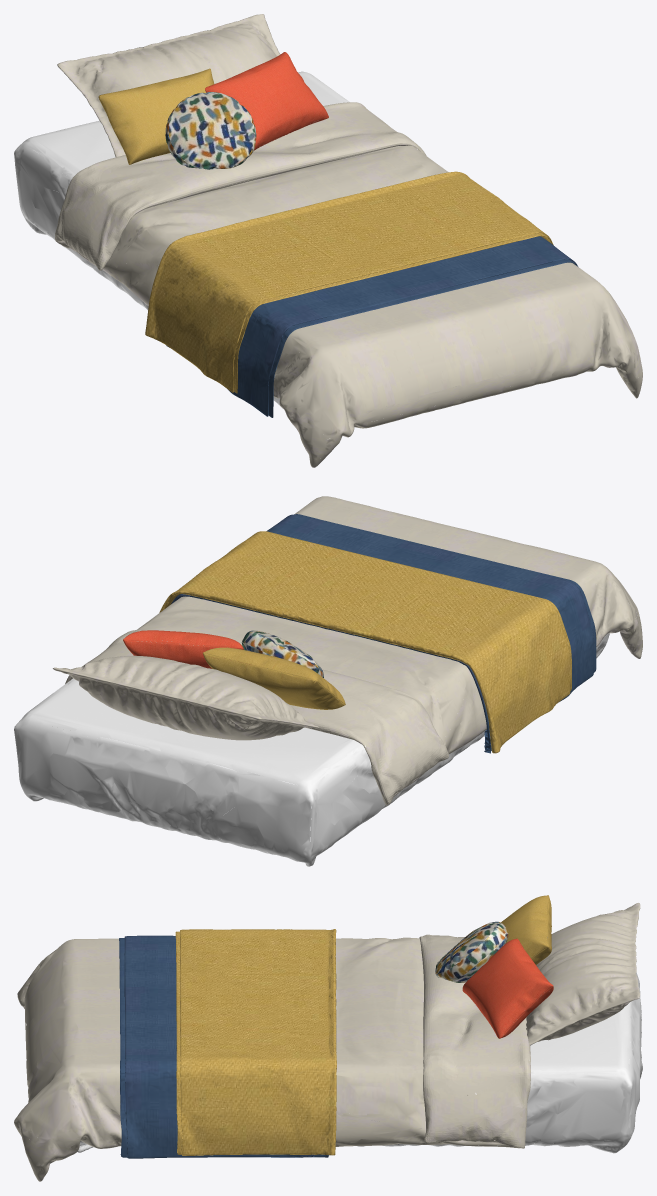
The picture shows the model from 3 angles, top to bottom: view 1: azimuth 30°, elevation 25°; view 2: azimuth 150°, elevation 25°; view 3: azimuth 270°, elevation 25°; orthographic projection. The views are drawn at different scales.
Visible parts, largest first — view 1: bed3fo_v2; view 2: bed3fo_v2; view 3: bed3fo_v2.
Boxes of the visible parts, box(x1,y1,x2,y2) form: bed3fo_v2: box(14, 14, 642, 467); bed3fo_v2: box(14, 496, 642, 866); bed3fo_v2: box(14, 895, 642, 1181).
Bounding box in the file's own units: 1.34 × 0.6381 × 2.19.
Materials: 6 (6 with a texture image).
